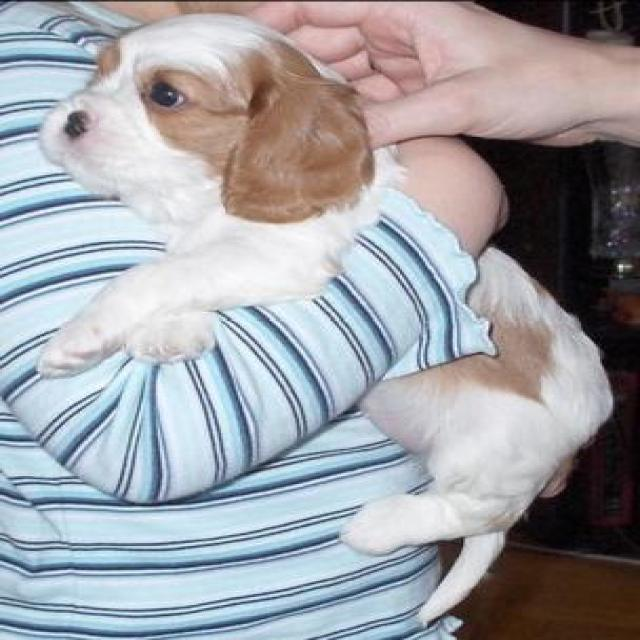blenheim_spaniel: (40, 11, 619, 624)
